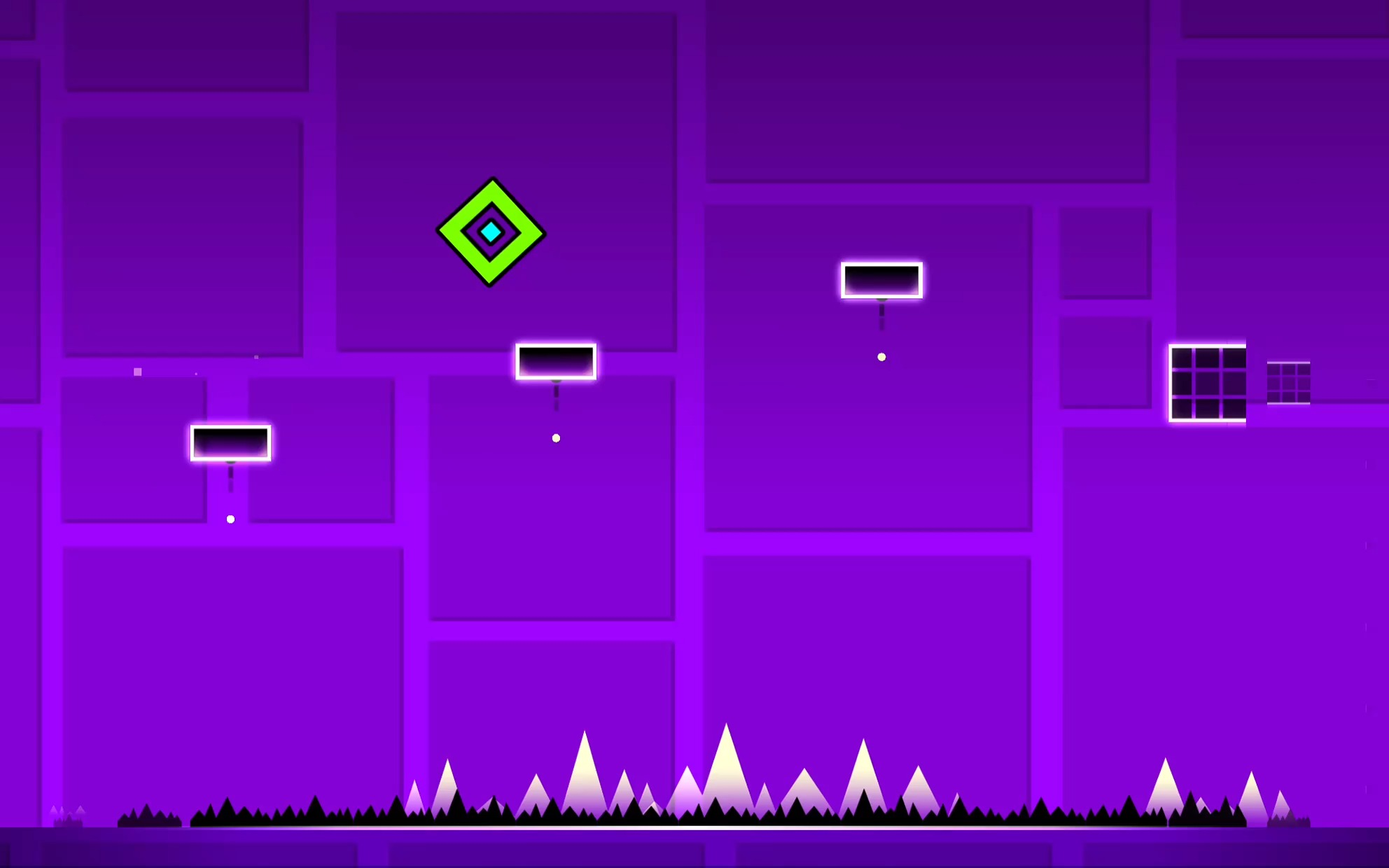Block2: (1166, 342, 1250, 419), (1268, 360, 1314, 402)
Block3: (838, 260, 923, 301), (512, 342, 598, 382), (187, 423, 272, 463)
Player: (437, 176, 545, 284)
Spike2: (46, 783, 1346, 829)
